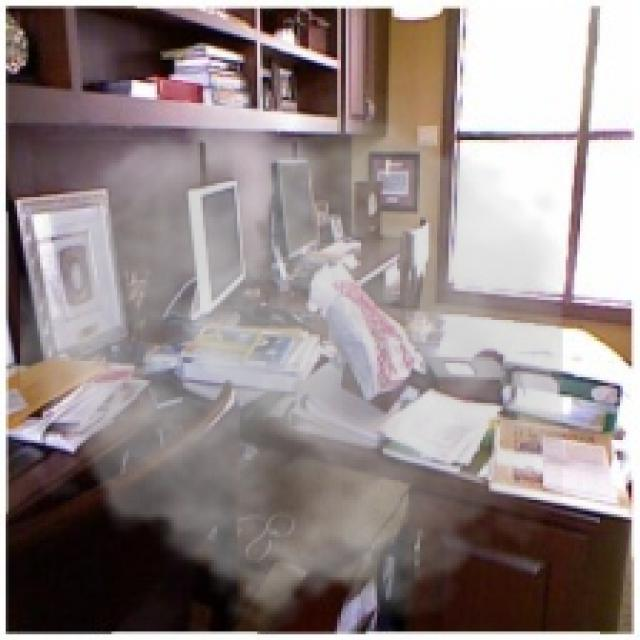smoke: (20, 74, 563, 637)
